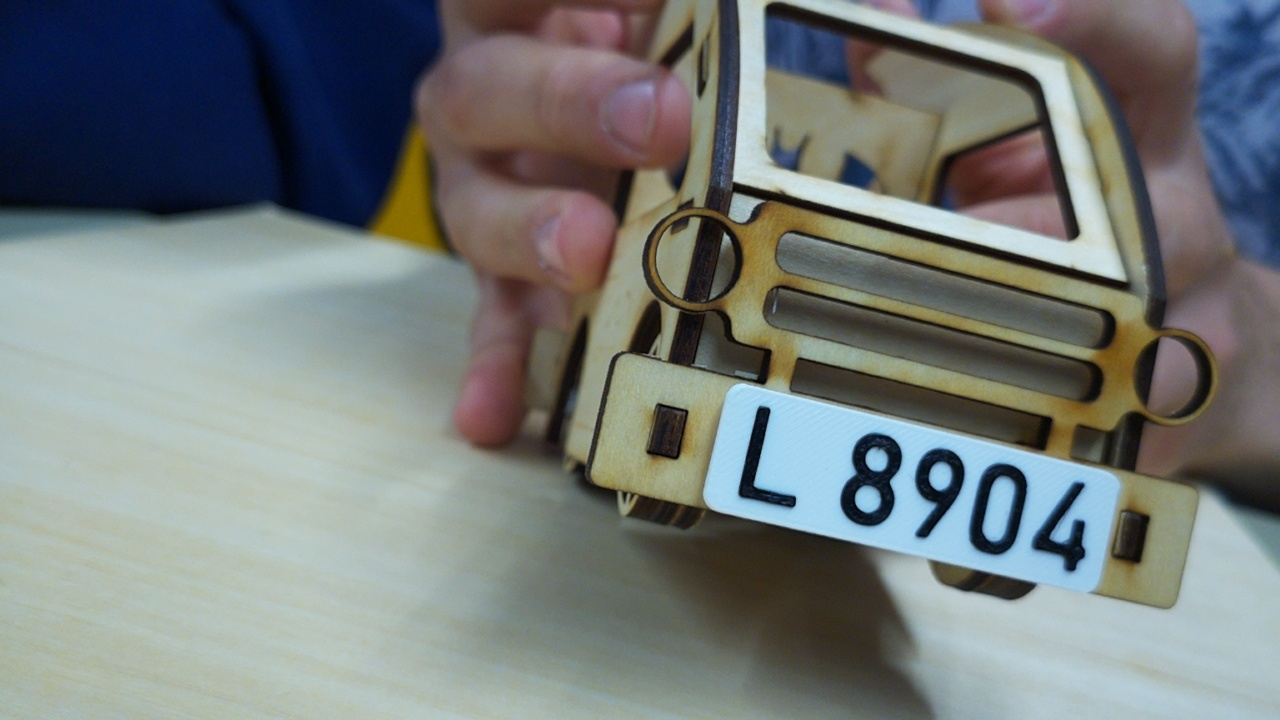license_plate: (700, 379, 1124, 599)
